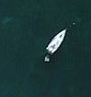ship: (39, 27, 69, 64)
